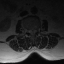CCS_normal: (31, 27, 33, 37)
LFS_normal: (35, 27, 38, 34)
LLS_normal: (33, 27, 35, 36)
RFS_normal: (27, 27, 29, 35)
RLS_normal: (29, 27, 31, 35)
